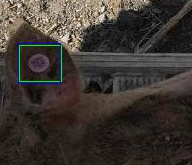text: (19, 45, 61, 81)
